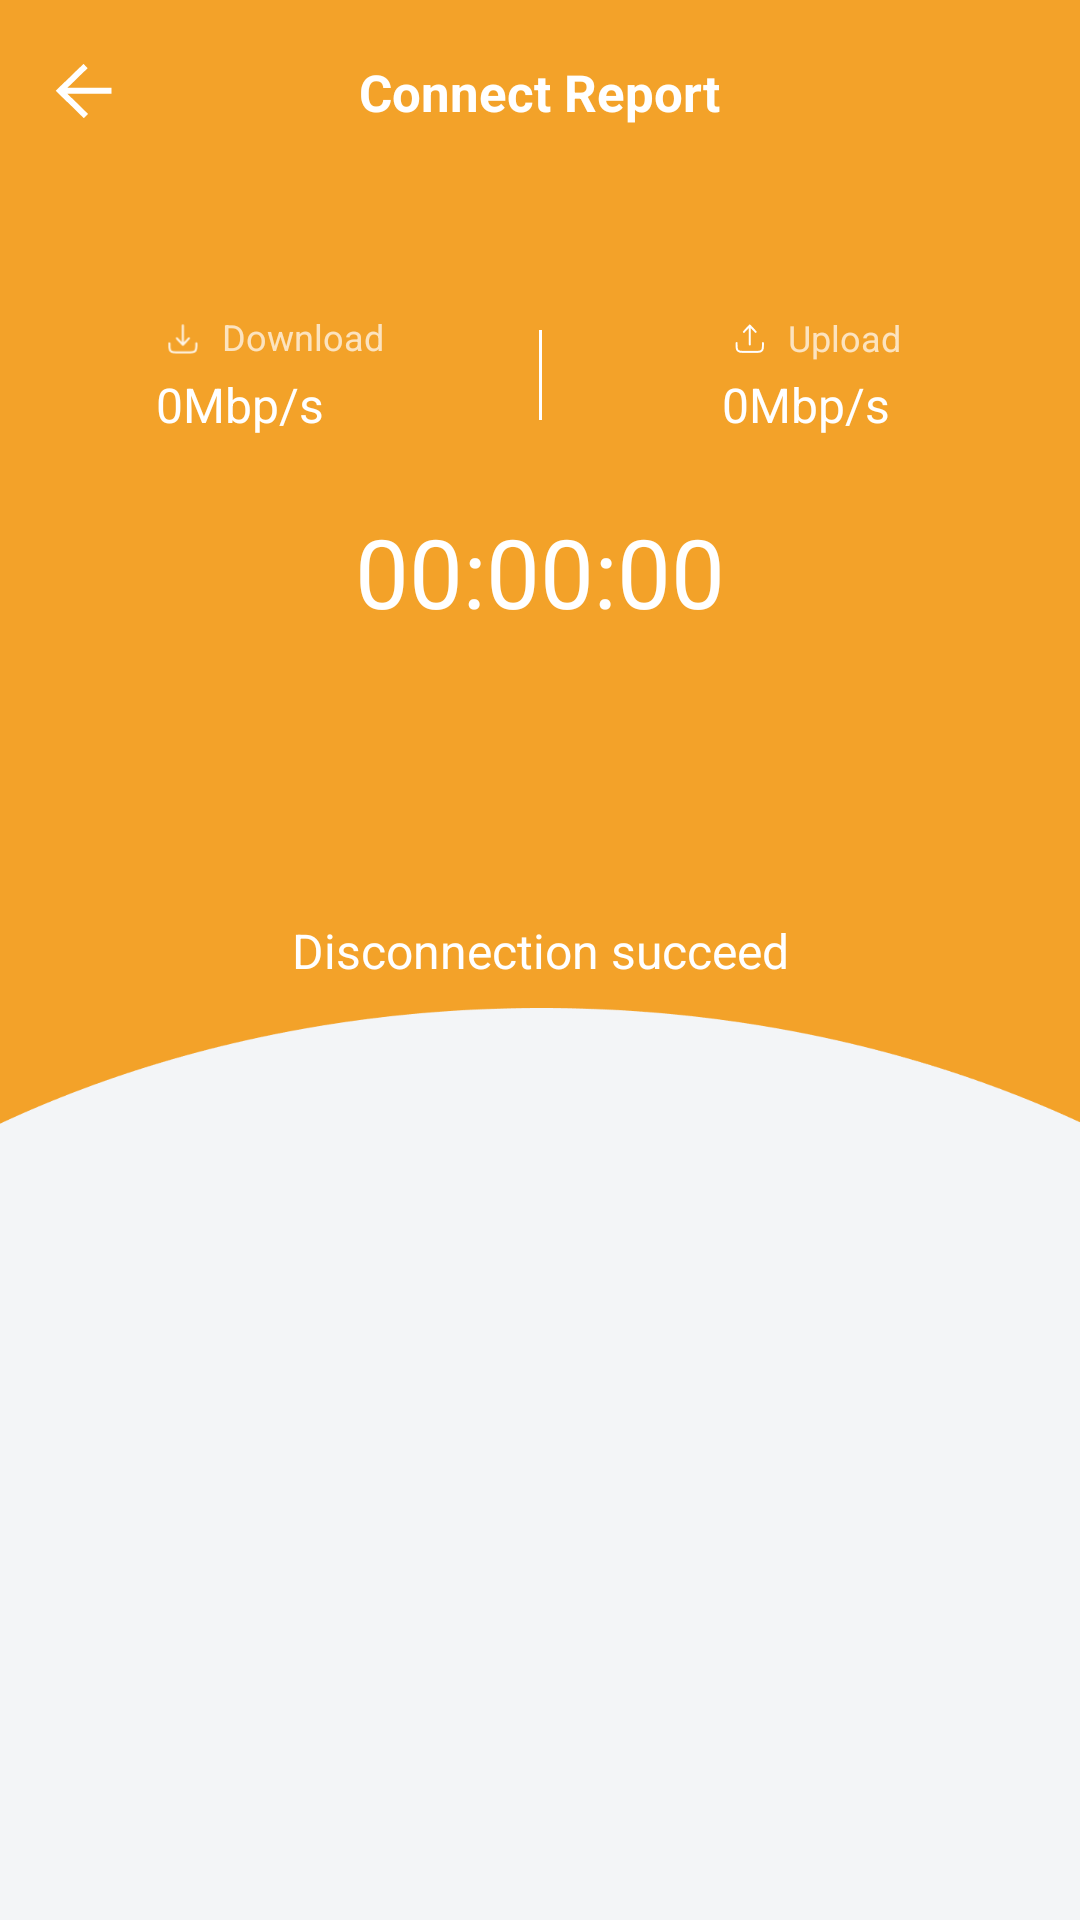

Screen size 1080 x 1920. Icon name, then its center in pixels as (x=x, y=y):
oblige return: (x=84, y=91)
